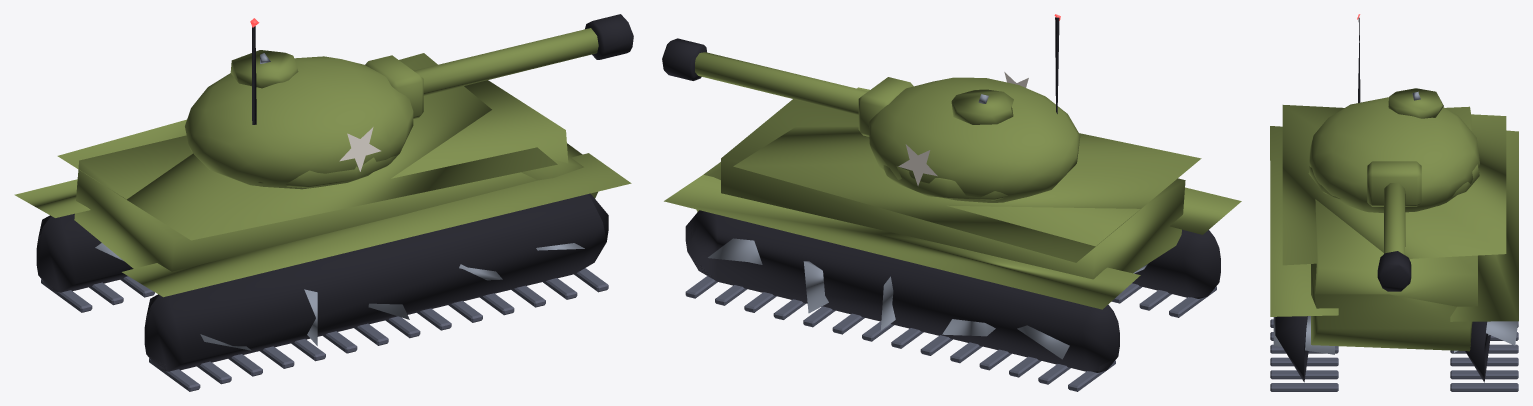
Rendered from tank.glb.
3 views of the same model, side by side, from view 1: azimuth 30°, elevation 25°; view 2: azimuth 150°, elevation 25°; view 3: azimuth 270°, elevation 25° (orthographic). The views are drawn at different scales.
Visible parts, largest first — view 1: tank.012, turret.005, barrel.009; view 2: tank.012, turret.005, barrel.009; view 3: tank.012, turret.005, barrel.009.
Boxes of the visible parts, bbox=[...] form: tank.012: bbox=[14, 53, 631, 391]; turret.005: bbox=[185, 18, 423, 189]; barrel.009: bbox=[413, 14, 633, 95]; tank.012: bbox=[664, 87, 1241, 391]; turret.005: bbox=[858, 14, 1080, 202]; barrel.009: bbox=[662, 38, 867, 114]; tank.012: bbox=[1270, 105, 1518, 391]; turret.005: bbox=[1308, 14, 1479, 212]; barrel.009: bbox=[1377, 183, 1411, 291].
Size of the model in its own units: 7.17 by 3.91 by 3.45.
1 material, 1 textured.
